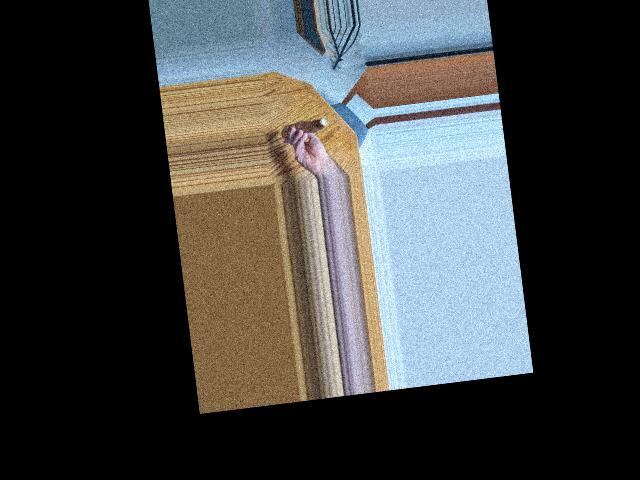sweet_potato: (280, 115, 330, 142)
